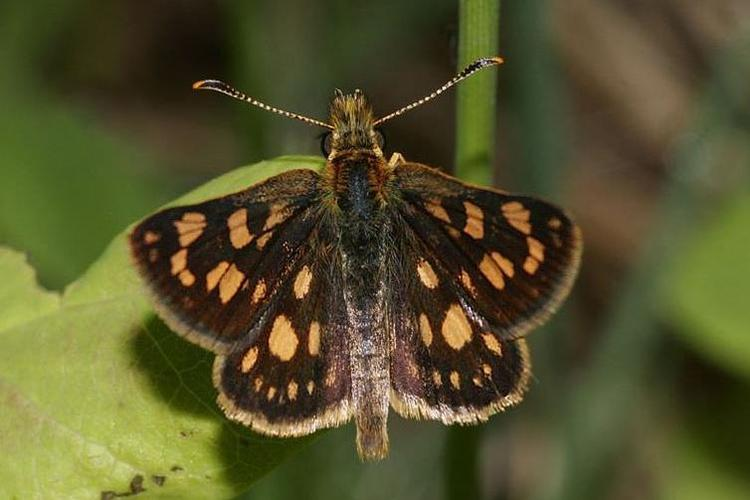Hesperiidae: (118, 57, 588, 466)
